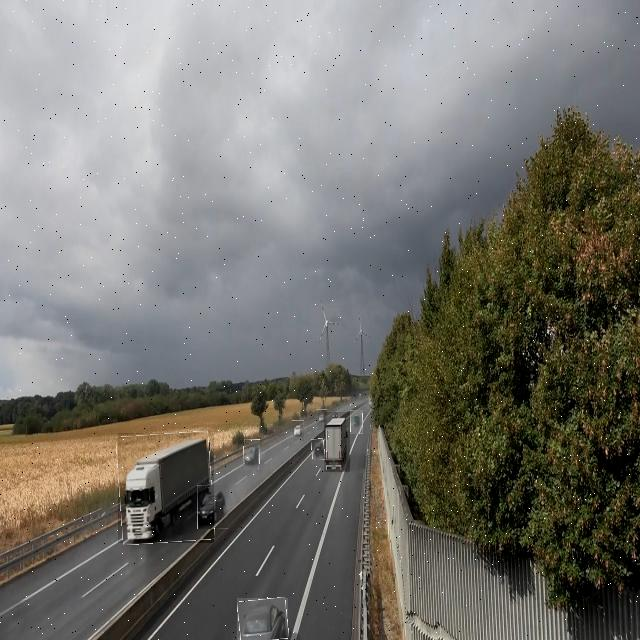Car: (237, 598, 288, 640), (197, 485, 228, 529), (244, 439, 260, 470), (350, 410, 363, 434), (311, 439, 325, 460), (292, 420, 304, 441), (317, 409, 327, 430)
Truck: (118, 433, 214, 543), (324, 412, 350, 472)
